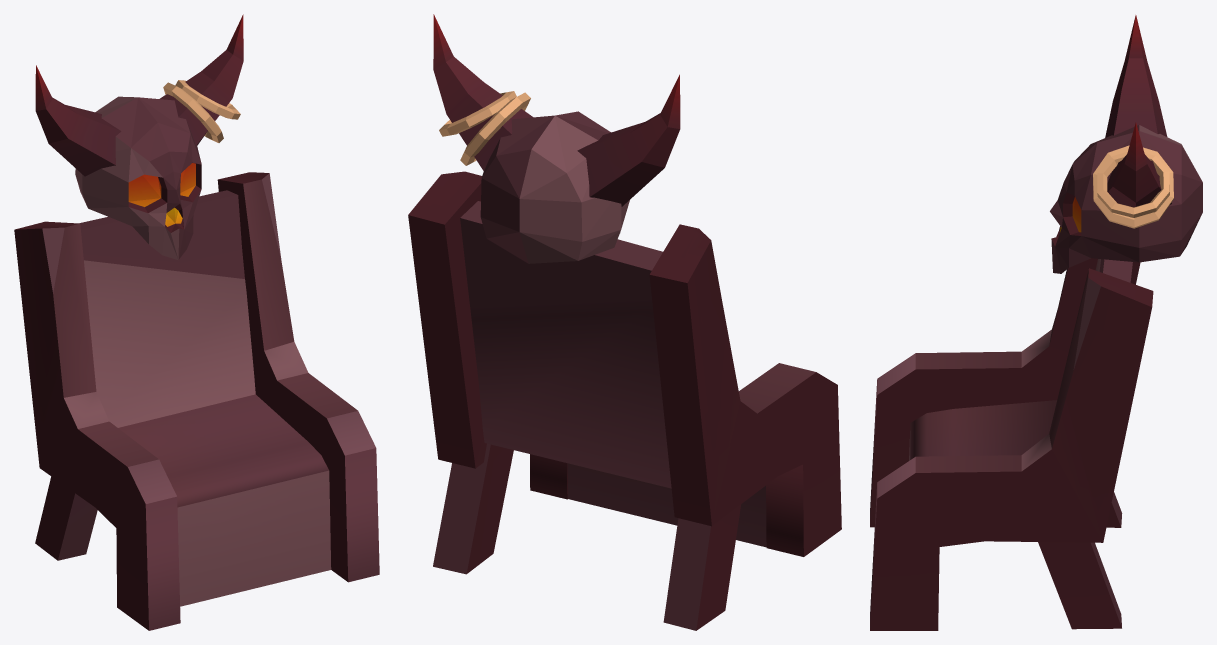
The model's file is ghe1.fbx.
3 renders of one model, left to right at view 1: azimuth 30°, elevation 25°; view 2: azimuth 150°, elevation 25°; view 3: azimuth 270°, elevation 25°, orthographic. The views are drawn at different scales.
Visible parts, largest first — view 1: ghe1; view 2: ghe1; view 3: ghe1.
Part boxes in pixels (left/top/right/bottom): ghe1: left=14, top=14, right=379, bottom=630; ghe1: left=408, top=14, right=841, bottom=630; ghe1: left=870, top=15, right=1202, bottom=630.
Bounding box in the file's own units: 245 × 469 × 281.
